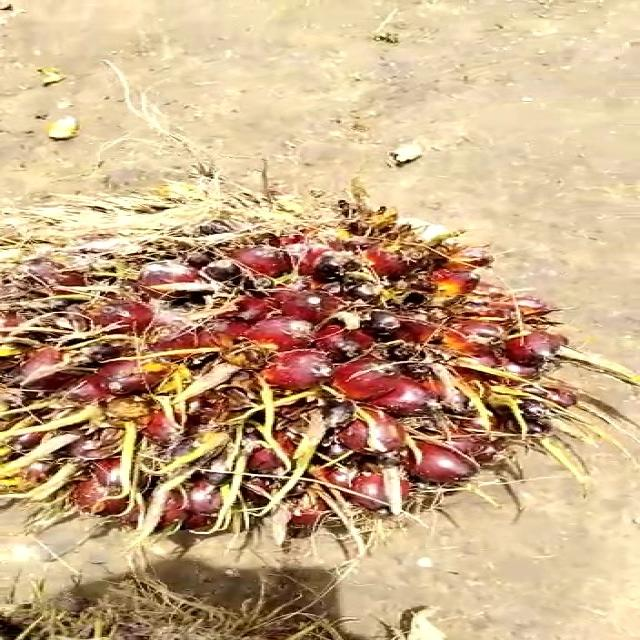palm oil: (0, 190, 580, 572)
